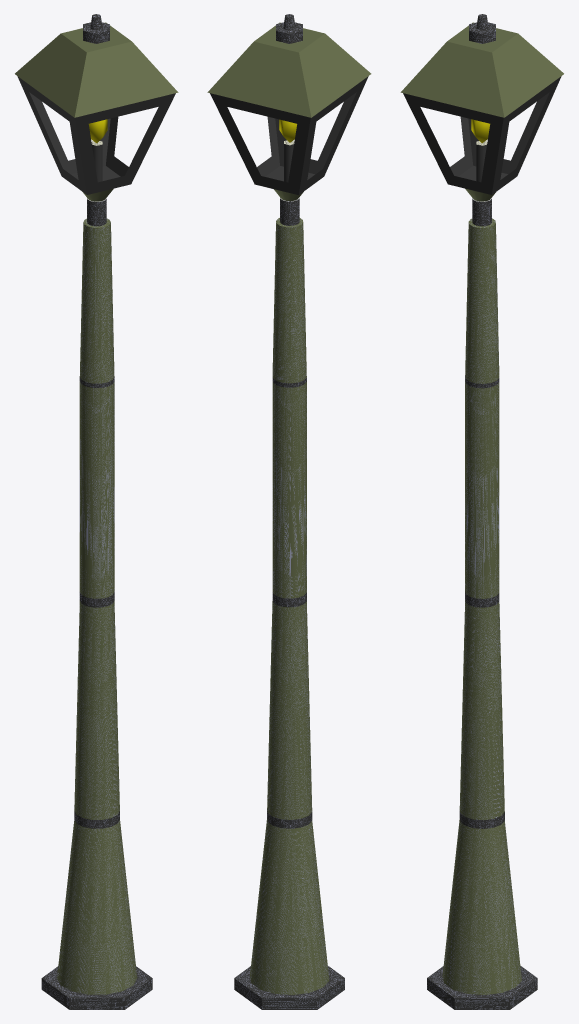
The model's file is lamp.dae.
The picture shows the model from 3 angles, left to right: view 1: azimuth 30°, elevation 25°; view 2: azimuth 150°, elevation 25°; view 3: azimuth 330°, elevation 25°; orthographic projection.
Parts seen in each view (by area): view 1: Lighting_LampPost_Square (×6), group_0, lamp_head (×2), group_1; view 2: Lighting_LampPost_Square (×6), group_0, lamp_head (×2), group_1; view 3: Lighting_LampPost_Square (×6), group_0, lamp_head (×2), group_1.
Boxes of the visible parts, <box> form: Lighting_LampPost_Square (×6): <box>41,218,152,1009</box>; group_0: <box>15,22,178,117</box>; lamp_head (×2): <box>17,76,175,226</box>; group_1: <box>83,22,109,43</box>; Lighting_LampPost_Square (×6): <box>234,218,344,1009</box>; group_0: <box>207,22,371,117</box>; lamp_head (×2): <box>210,76,368,225</box>; group_1: <box>276,22,302,43</box>; Lighting_LampPost_Square (×6): <box>427,218,537,1009</box>; group_0: <box>400,22,563,117</box>; lamp_head (×2): <box>403,76,561,226</box>; group_1: <box>469,22,495,43</box>.
Size of the model in its own units: 10.65 by 10.67 by 95.32.
